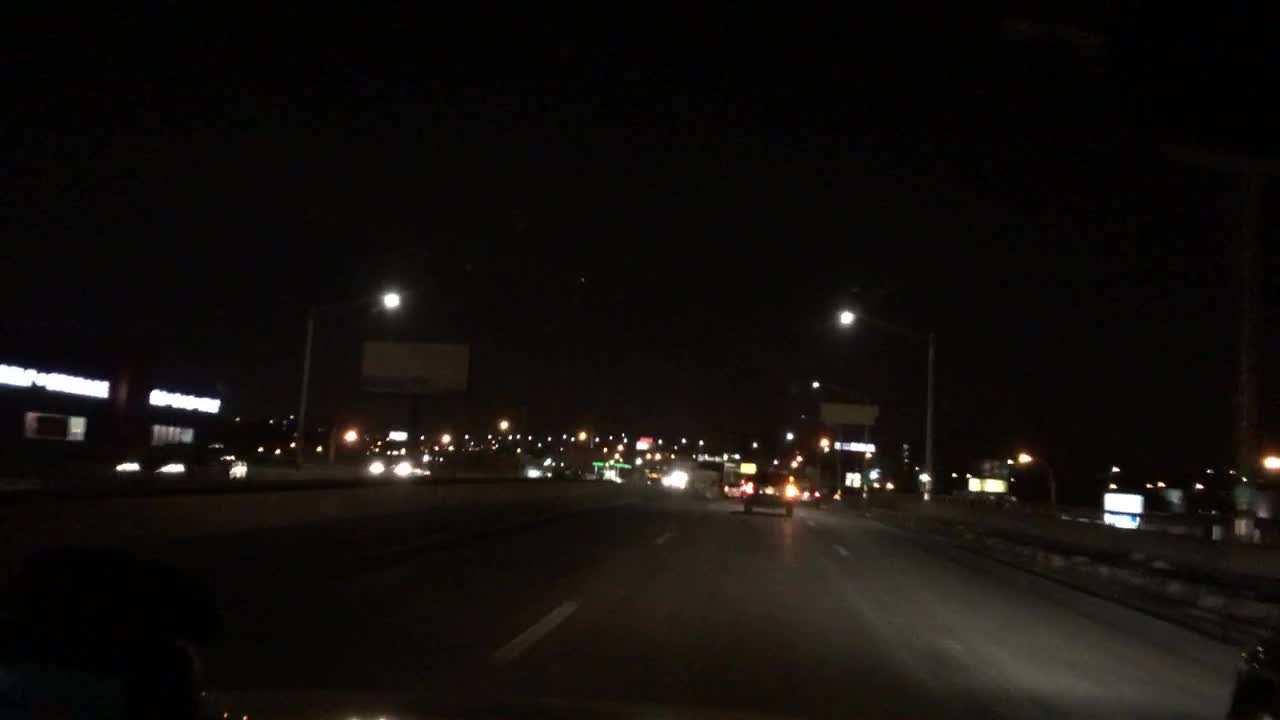car: (113, 444, 248, 484), (1230, 614, 1276, 718), (739, 468, 796, 518), (363, 458, 433, 479), (798, 485, 819, 506), (720, 482, 738, 500), (647, 466, 663, 485), (671, 466, 684, 489), (524, 468, 553, 478)
traffic light: (964, 477, 1005, 493)
traffic sign: (365, 340, 468, 392), (822, 403, 878, 425), (1100, 492, 1144, 517), (1101, 516, 1141, 527), (832, 443, 874, 453)
